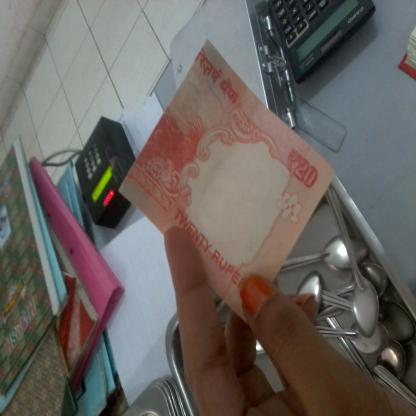Old20Back: (120, 45, 316, 307)
